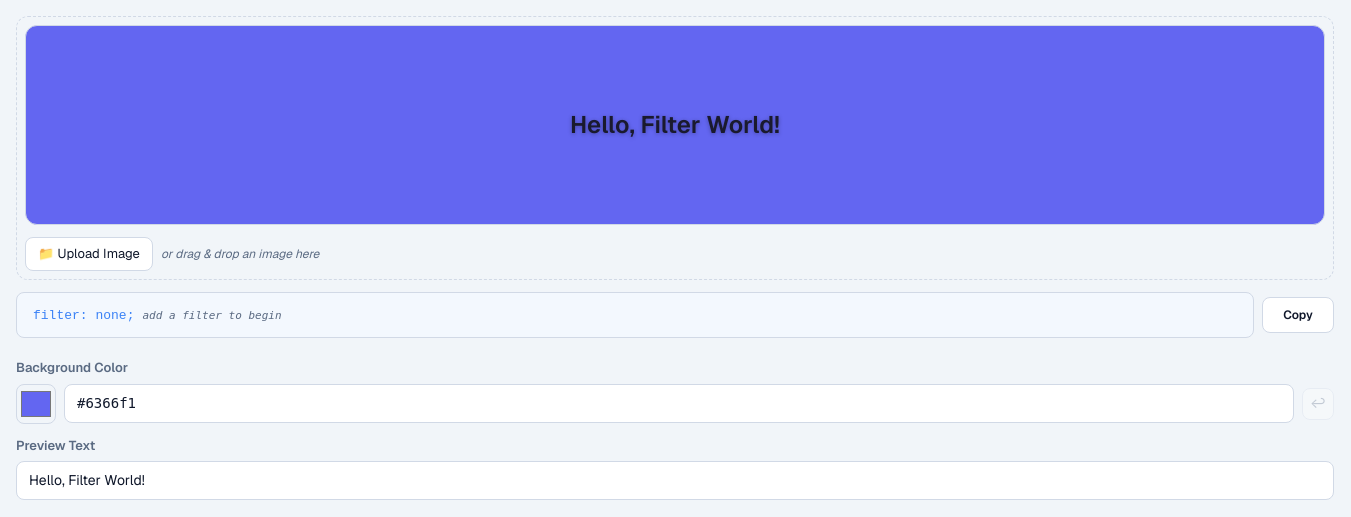
it: ToolCanvas extras › shows the hint when no filters are active and copies CSS via clipboard
Expected: the text "add a filter to begin" is shown, [142, 308, 282, 322]
Click the button with aria-label "copy css rule to clipboard" at (1298, 315), box [1262, 297, 1334, 333]
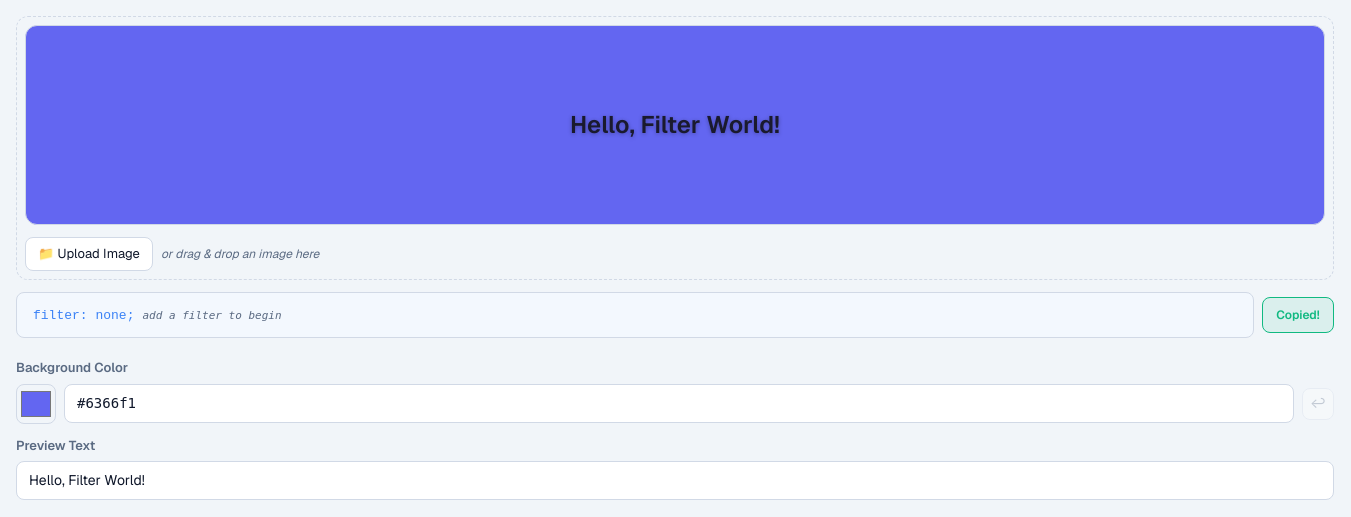
Expected: the button with aria-label "css copied" is shown, [1262, 297, 1334, 333]
